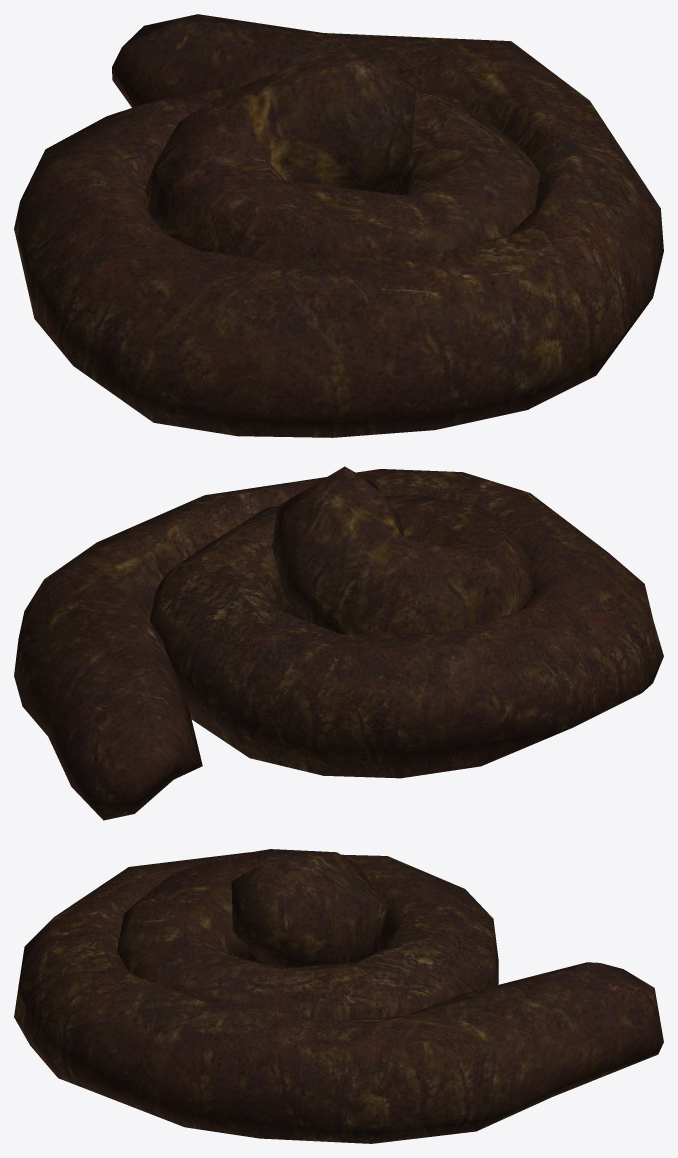
The model's file is Tai1.fbx.
3 renders of one model, top to bottom at view 1: azimuth 30°, elevation 25°; view 2: azimuth 150°, elevation 25°; view 3: azimuth 270°, elevation 25°, orthographic. The views are drawn at different scales.
Parts seen in each view (by area): view 1: Box001_Material #2_0; view 2: Box001_Material #2_0; view 3: Box001_Material #2_0.
Boxes of the visible parts, x1,y1,x2,y2 form: Box001_Material #2_0: [14, 14, 663, 437]; Box001_Material #2_0: [14, 466, 663, 820]; Box001_Material #2_0: [14, 849, 663, 1143].
Bounding box in the file's own units: 116 × 43.59 × 140.
Materials: 1 (1 with a texture image).
